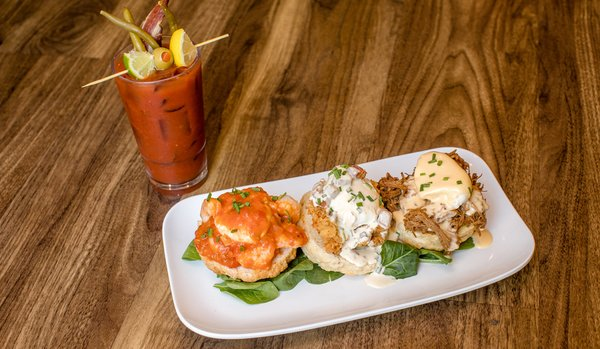pizza: (103, 31, 217, 199), (114, 50, 208, 189)
soup: (192, 187, 310, 299)
